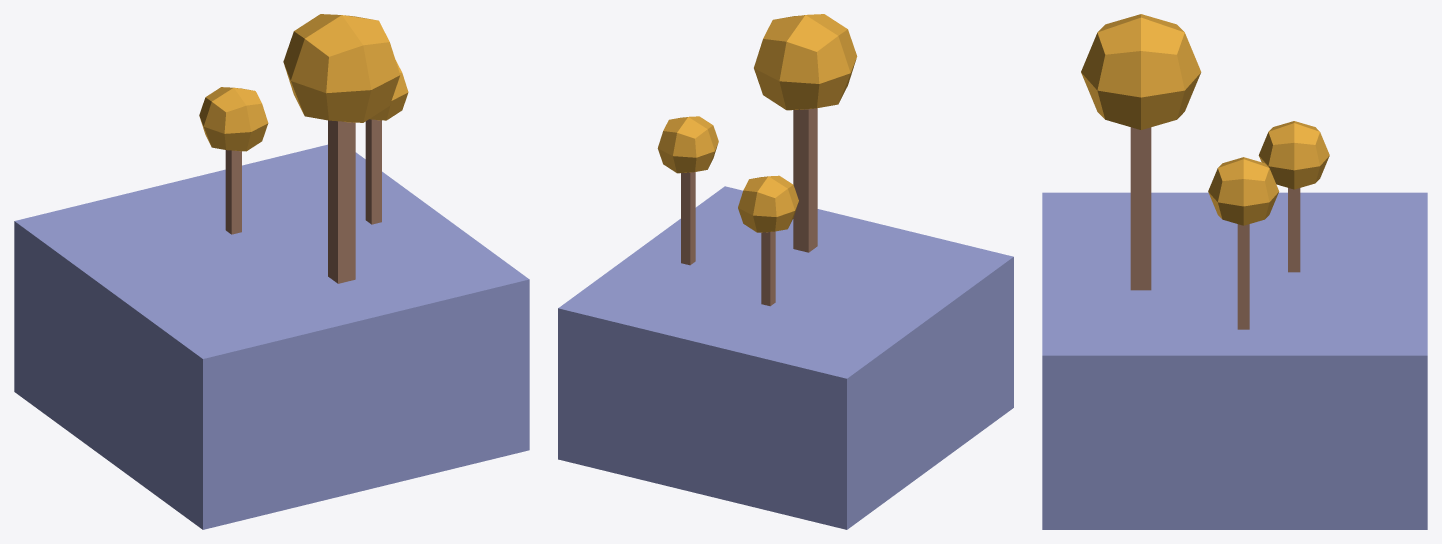
The model's file is flowers.fbx.
3 views of the same model, side by side, from view 1: azimuth 30°, elevation 25°; view 2: azimuth 150°, elevation 25°; view 3: azimuth 270°, elevation 25° (orthographic). The views are drawn at different scales.
Visible parts, largest first — view 1: flowers; view 2: flowers; view 3: flowers.
Part boxes in pixels (x1,y1,x2,y2): flowers: (14, 14, 529, 529); flowers: (558, 14, 1013, 529); flowers: (1042, 14, 1427, 529).
Size of the model in its own units: 200 by 254 by 200.
